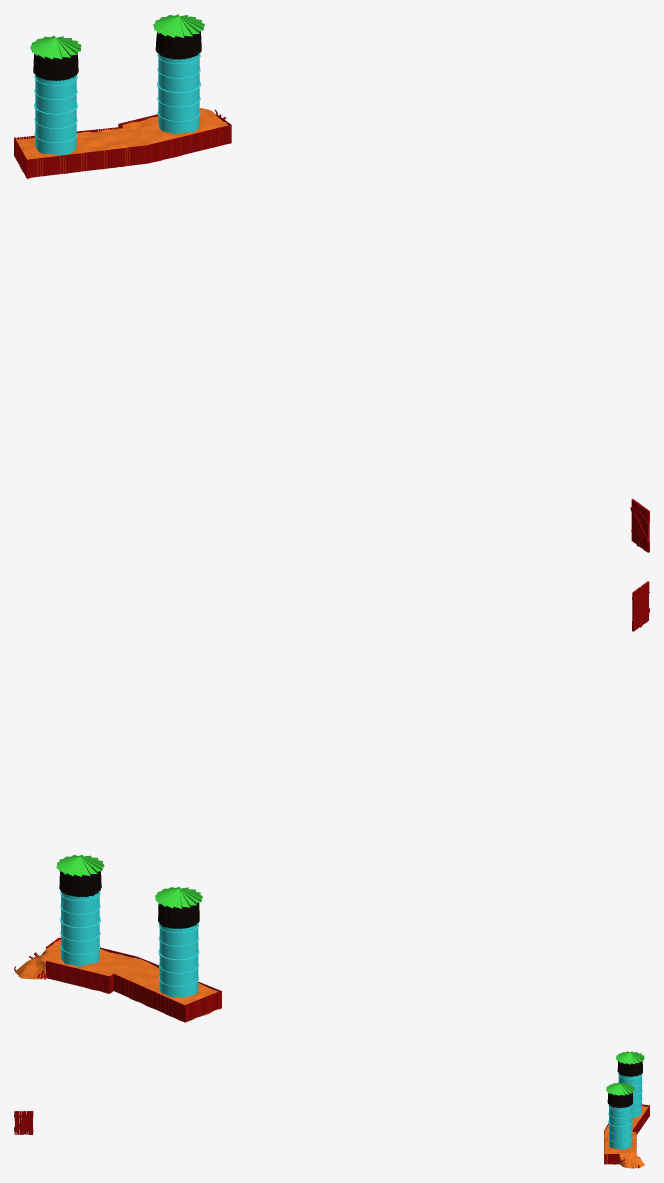
The model's file is DoubleSilo.fbx.
3 renders of one model, top to bottom at view 1: azimuth 30°, elevation 25°; view 2: azimuth 150°, elevation 25°; view 3: azimuth 270°, elevation 25°, orthographic. The views are drawn at different scales.
Visible parts, largest first — view 1: DoubleSilo; view 2: DoubleSilo; view 3: DoubleSilo.
Boxes of the visible parts, x1,y1,x2,y2 form: DoubleSilo: (14,14,649,552); DoubleSilo: (14,581,649,1022); DoubleSilo: (14,1051,649,1168).
Bounding box in the file's own units: 2895 × 1691 × 13735.
